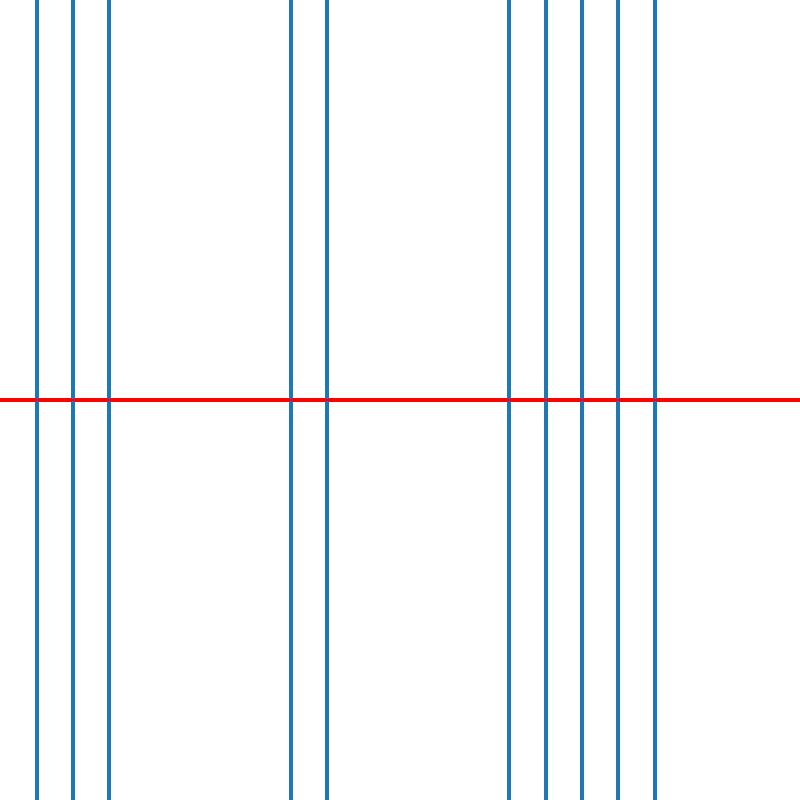root: (541, 396, 549, 404), (32, 396, 40, 404), (650, 396, 658, 404), (105, 396, 112, 404), (578, 396, 585, 404), (505, 396, 512, 404), (614, 396, 621, 404), (69, 396, 76, 404), (323, 396, 330, 404), (287, 396, 294, 404)
